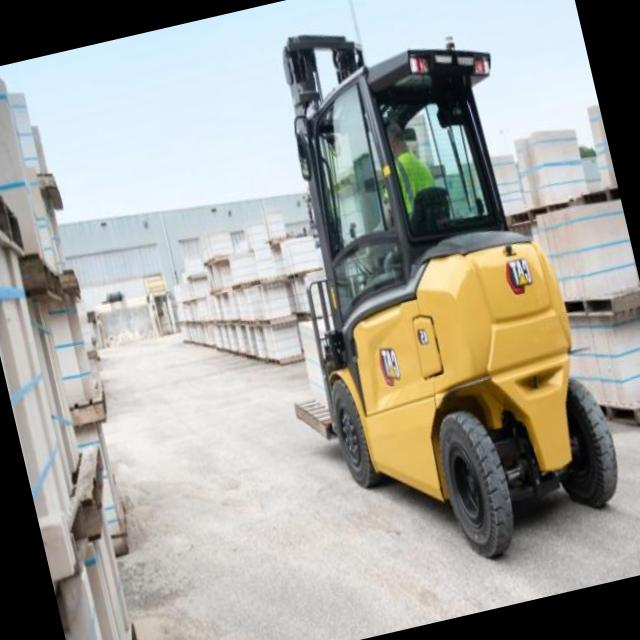driver: (363, 110, 443, 236)
forklift: (237, 0, 633, 587)
